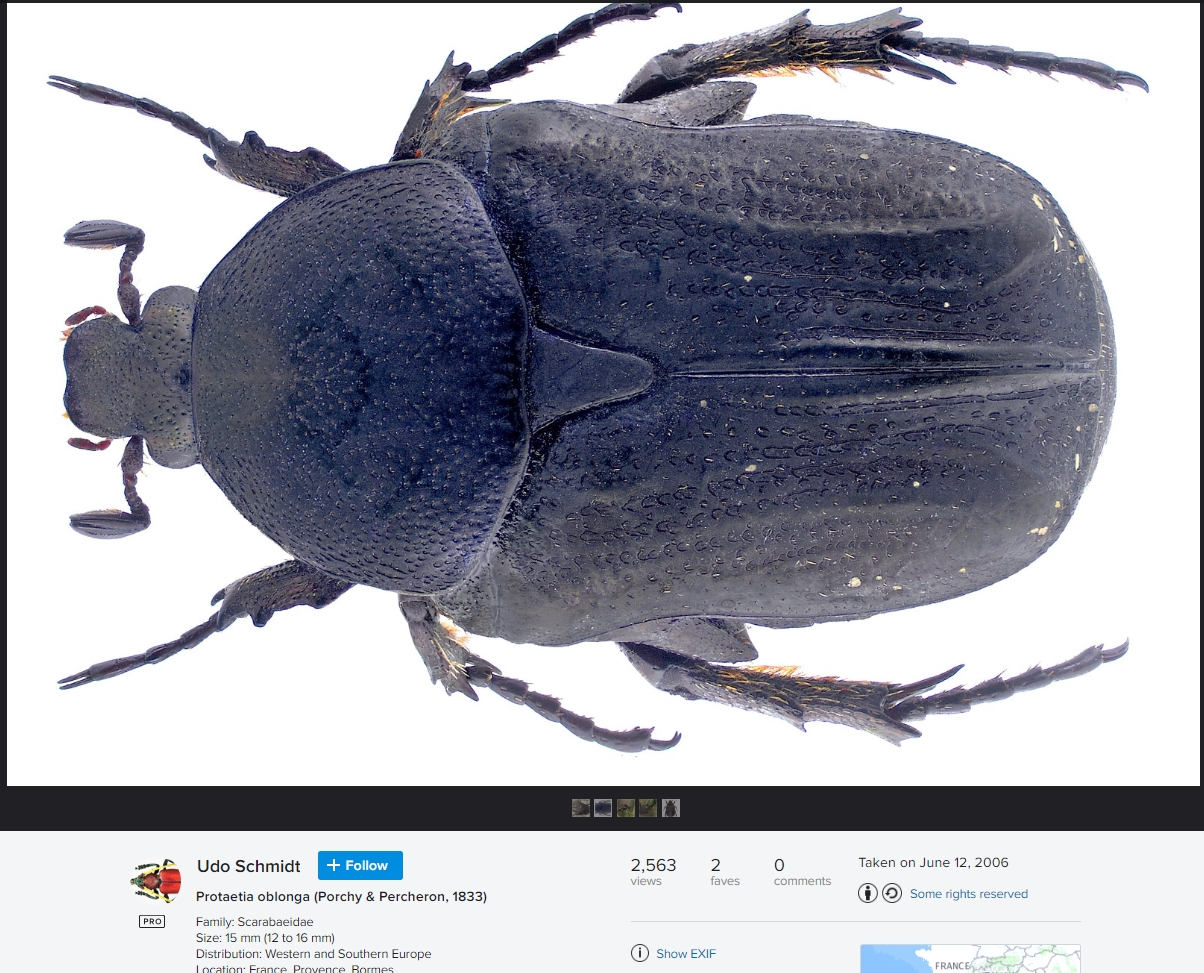Protaetia_oblonga: (22, 3, 1177, 771)
